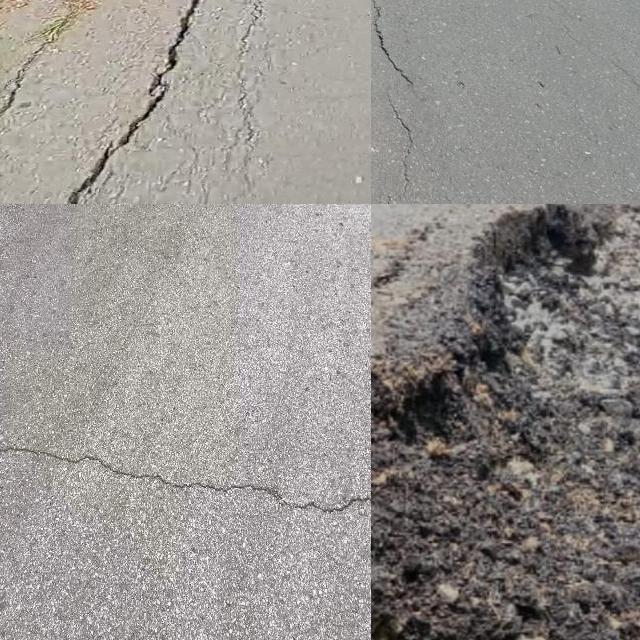Melintang: (0, 430, 371, 525)
Memanjang: (38, 0, 222, 204), (371, 0, 434, 204)
Pinggir: (371, 204, 640, 640)
